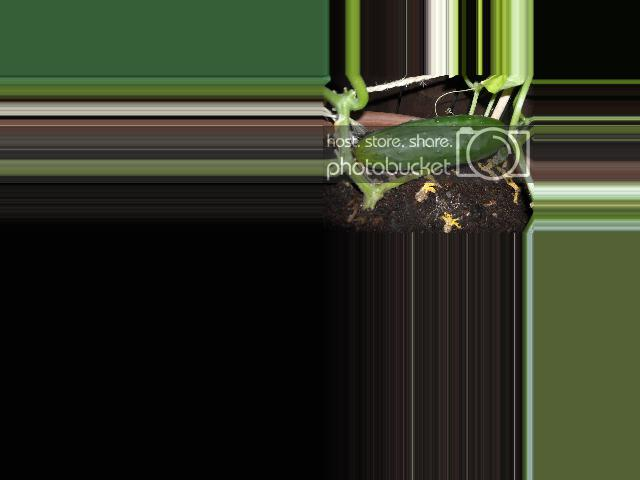cucumber: (355, 115, 506, 171)
